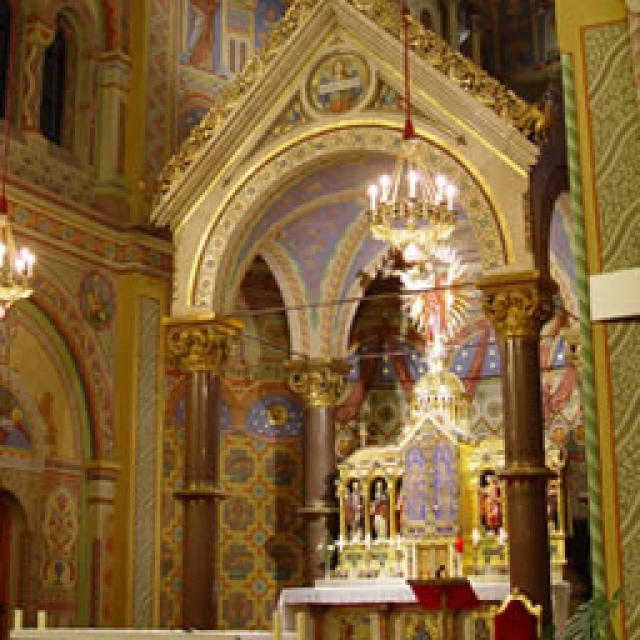altar: (282, 362, 568, 638)
column occluded: (472, 272, 558, 635), (165, 320, 235, 622), (280, 355, 350, 585)
dome: (148, 0, 562, 358)
lamp crop: (365, 15, 452, 230)
wall clock: (0, 0, 602, 632), (552, 0, 638, 635)
